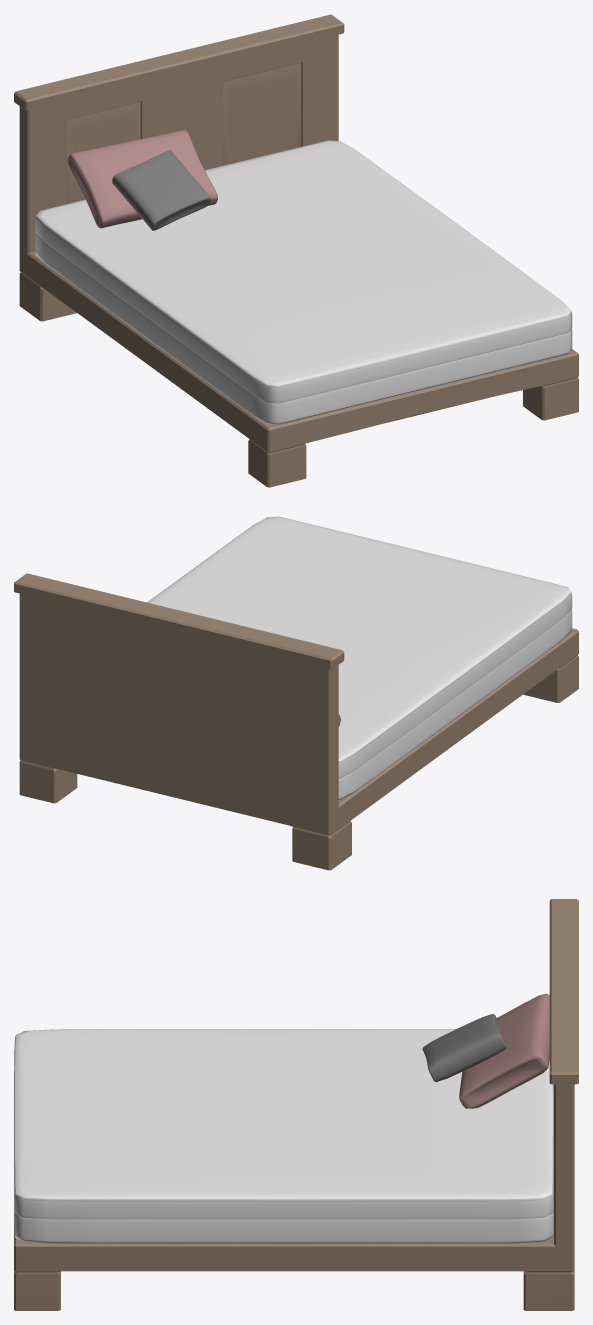
Rendered from Bed_Queen.fbx.
3 renders of one model, top to bottom at view 1: azimuth 30°, elevation 25°; view 2: azimuth 150°, elevation 25°; view 3: azimuth 270°, elevation 25°, orthographic. The views are drawn at different scales.
Parts seen in each view (by area): view 1: Mattress, BedBase, Pillow1, Cushion1; view 2: BedBase, Mattress; view 3: Mattress, BedBase, Pillow1, Cushion1.
Part boxes in pixels (x1=…): Mattress: x1=35, y1=140, x2=572, y2=424; BedBase: x1=14, y1=14, x2=578, y2=487; Pillow1: x1=67, y1=130, x2=217, y2=228; Cushion1: x1=112, y1=150, x2=210, y2=230; BedBase: x1=14, y1=573, x2=578, y2=870; Mattress: x1=147, y1=516, x2=572, y2=800; Mattress: x1=14, y1=1029, x2=553, y2=1243; BedBase: x1=14, y1=899, x2=578, y2=1310; Pillow1: x1=459, y1=993, x2=549, y2=1108; Cushion1: x1=422, y1=1014, x2=506, y2=1082.
Size of the model in its own units: 155 by 99.53 by 212.
